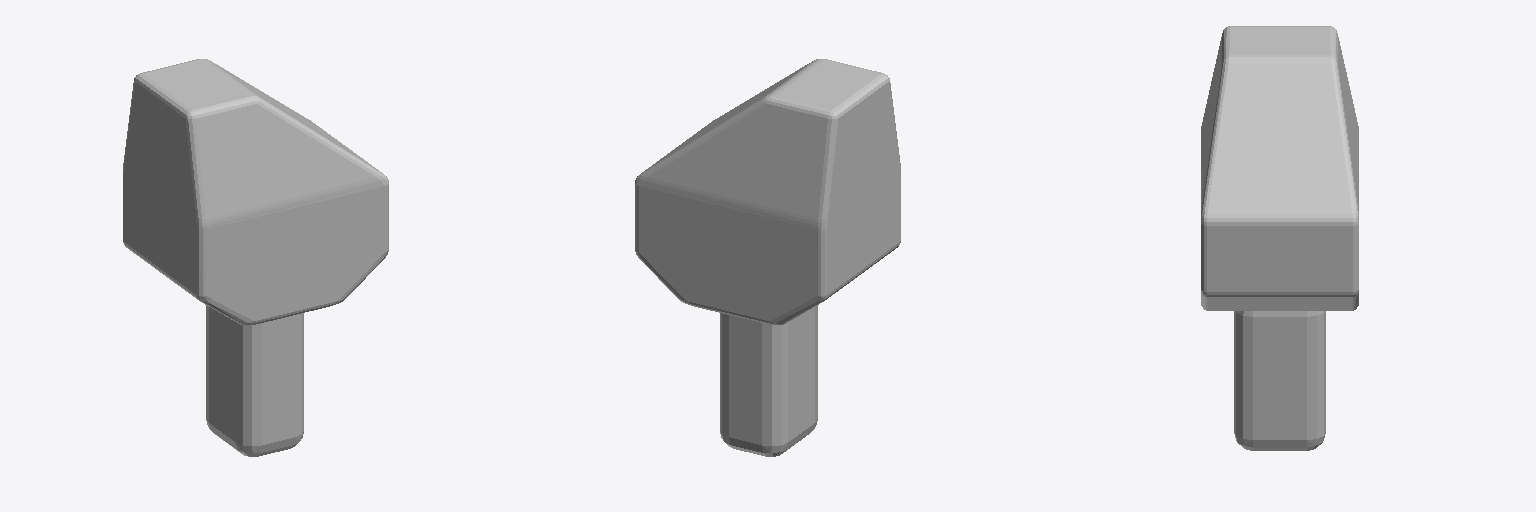
File: RangeRobot_rightupperarm.obj
3 renders of one model, left to right at view 1: azimuth 30°, elevation 25°; view 2: azimuth 150°, elevation 25°; view 3: azimuth 270°, elevation 25°, orthographic.
Parts seen in each view (by area): view 1: Right_Arm, Right_Arm R_Upper_Arm; view 2: Right_Arm, Right_Arm R_Upper_Arm; view 3: Right_Arm, Right_Arm R_Upper_Arm.
Part boxes in pixels (x1,y1,x2,y2): Right_Arm: (123,59,388,324); Right_Arm R_Upper_Arm: (206,305,303,456); Right_Arm: (635,59,900,324); Right_Arm R_Upper_Arm: (720,305,817,456); Right_Arm: (1201,26,1358,310); Right_Arm R_Upper_Arm: (1234,311,1325,450).
Size of the model in its own units: 1.27 by 2.35 by 0.91.